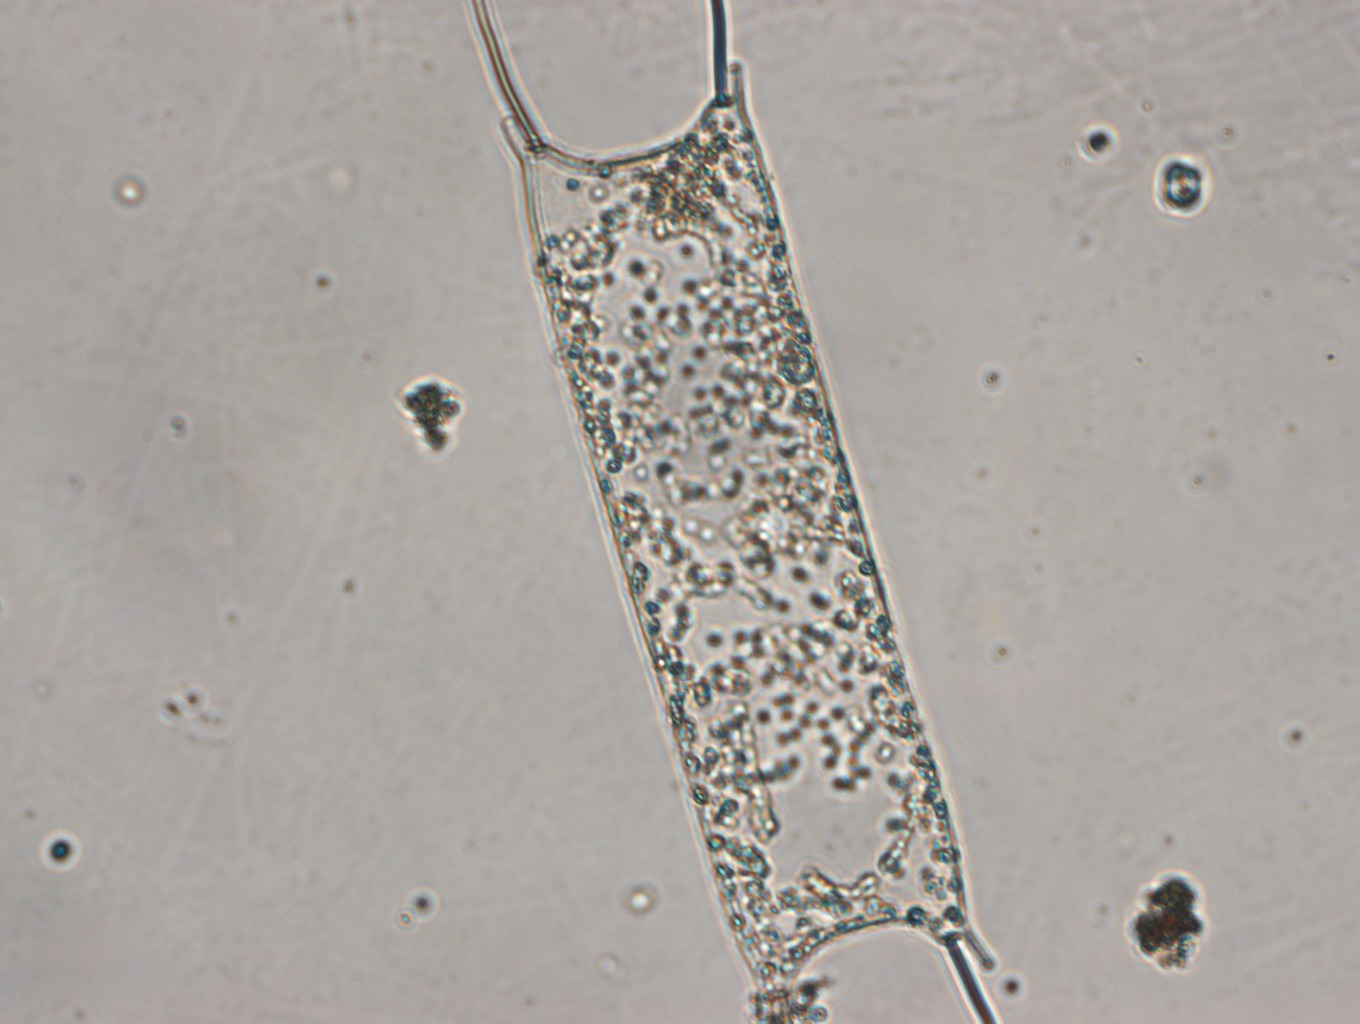biddulphia: (467, 1, 1003, 1024)
